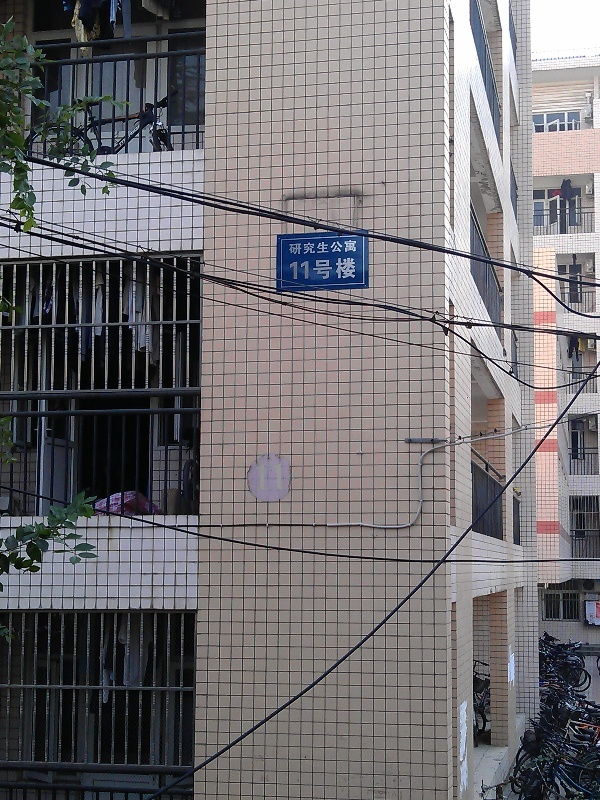text: (257, 460, 272, 493), (273, 460, 288, 493), (305, 256, 320, 282), (321, 256, 336, 282), (337, 256, 352, 282), (290, 256, 304, 282), (305, 239, 320, 255), (321, 239, 336, 255), (337, 239, 352, 255), (290, 239, 304, 255), (353, 256, 359, 282), (353, 239, 359, 255), (255, 460, 256, 493)
